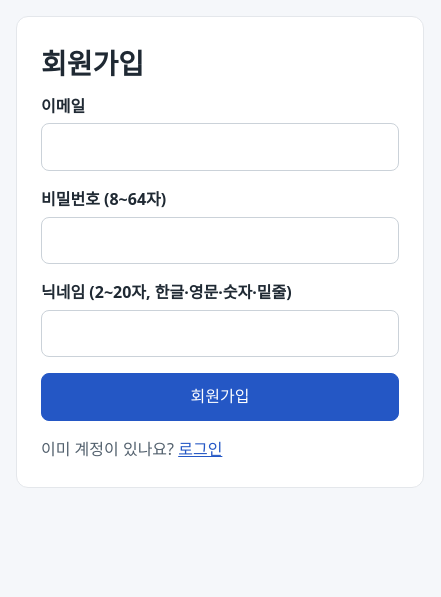
Scenario: 회원가입 › 실패하면 이메일과 닉네임은 남기고 비밀번호만 지운다
Expected: the heading "회원가입" is shown, [41,44,144,82]
In the field labelled "이메일": (220, 147) [41,123,399,171], type "user1@example.com"
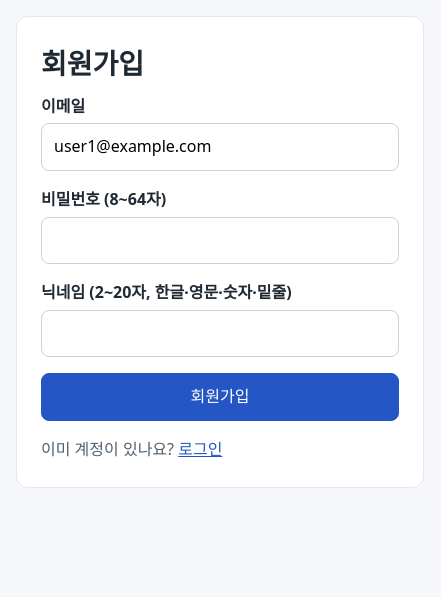
In the password field labelled "비밀번호 (8~64자)": (220, 240) [41,217,399,264], type "password123"
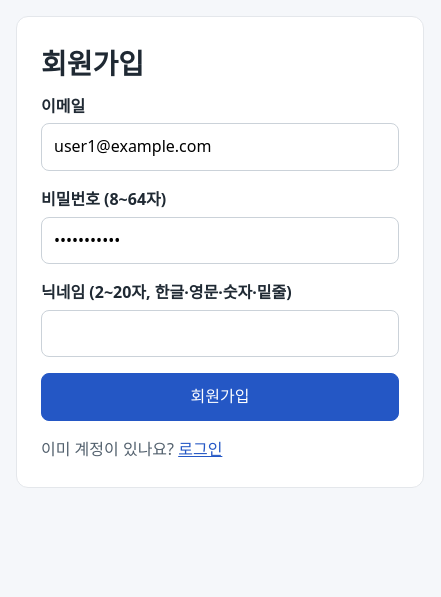
In the field labelled "닉네임 (2~20자, 한글·영문·숫자·밑줄)": (220, 334) [41,310,399,357], type "taken"
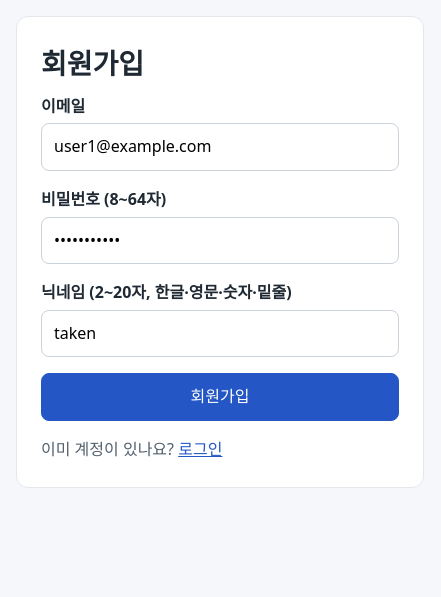
Click the button "회원가입": (220, 397) [41,373,399,421]
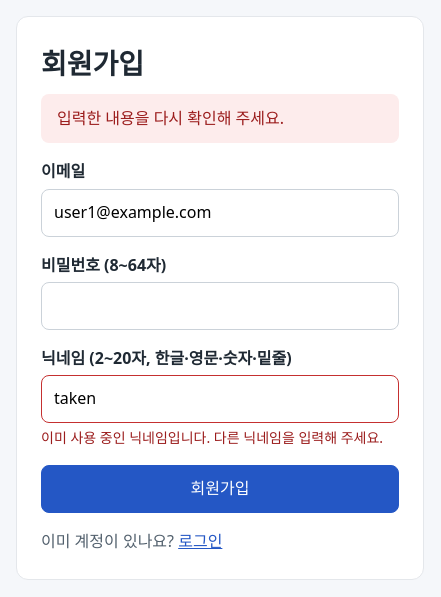
Now the text "이미 사용 중인 닉네임입니다. 다른 닉네임을 입력해 주세요." is shown, box [41,427,399,449]
Now the password field labelled "비밀번호 (8~64자)" is empty, box [41,282,399,330]
